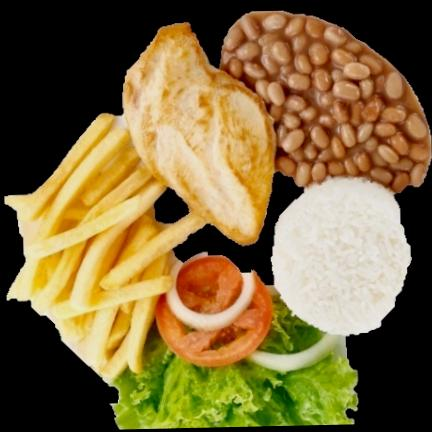chicken: (123, 24, 276, 244)
potato: (4, 115, 204, 379)
rice: (272, 179, 411, 335)
salad: (112, 324, 358, 430), (261, 297, 323, 354)
tomato: (220, 12, 431, 193), (156, 272, 273, 366), (176, 257, 245, 317)
